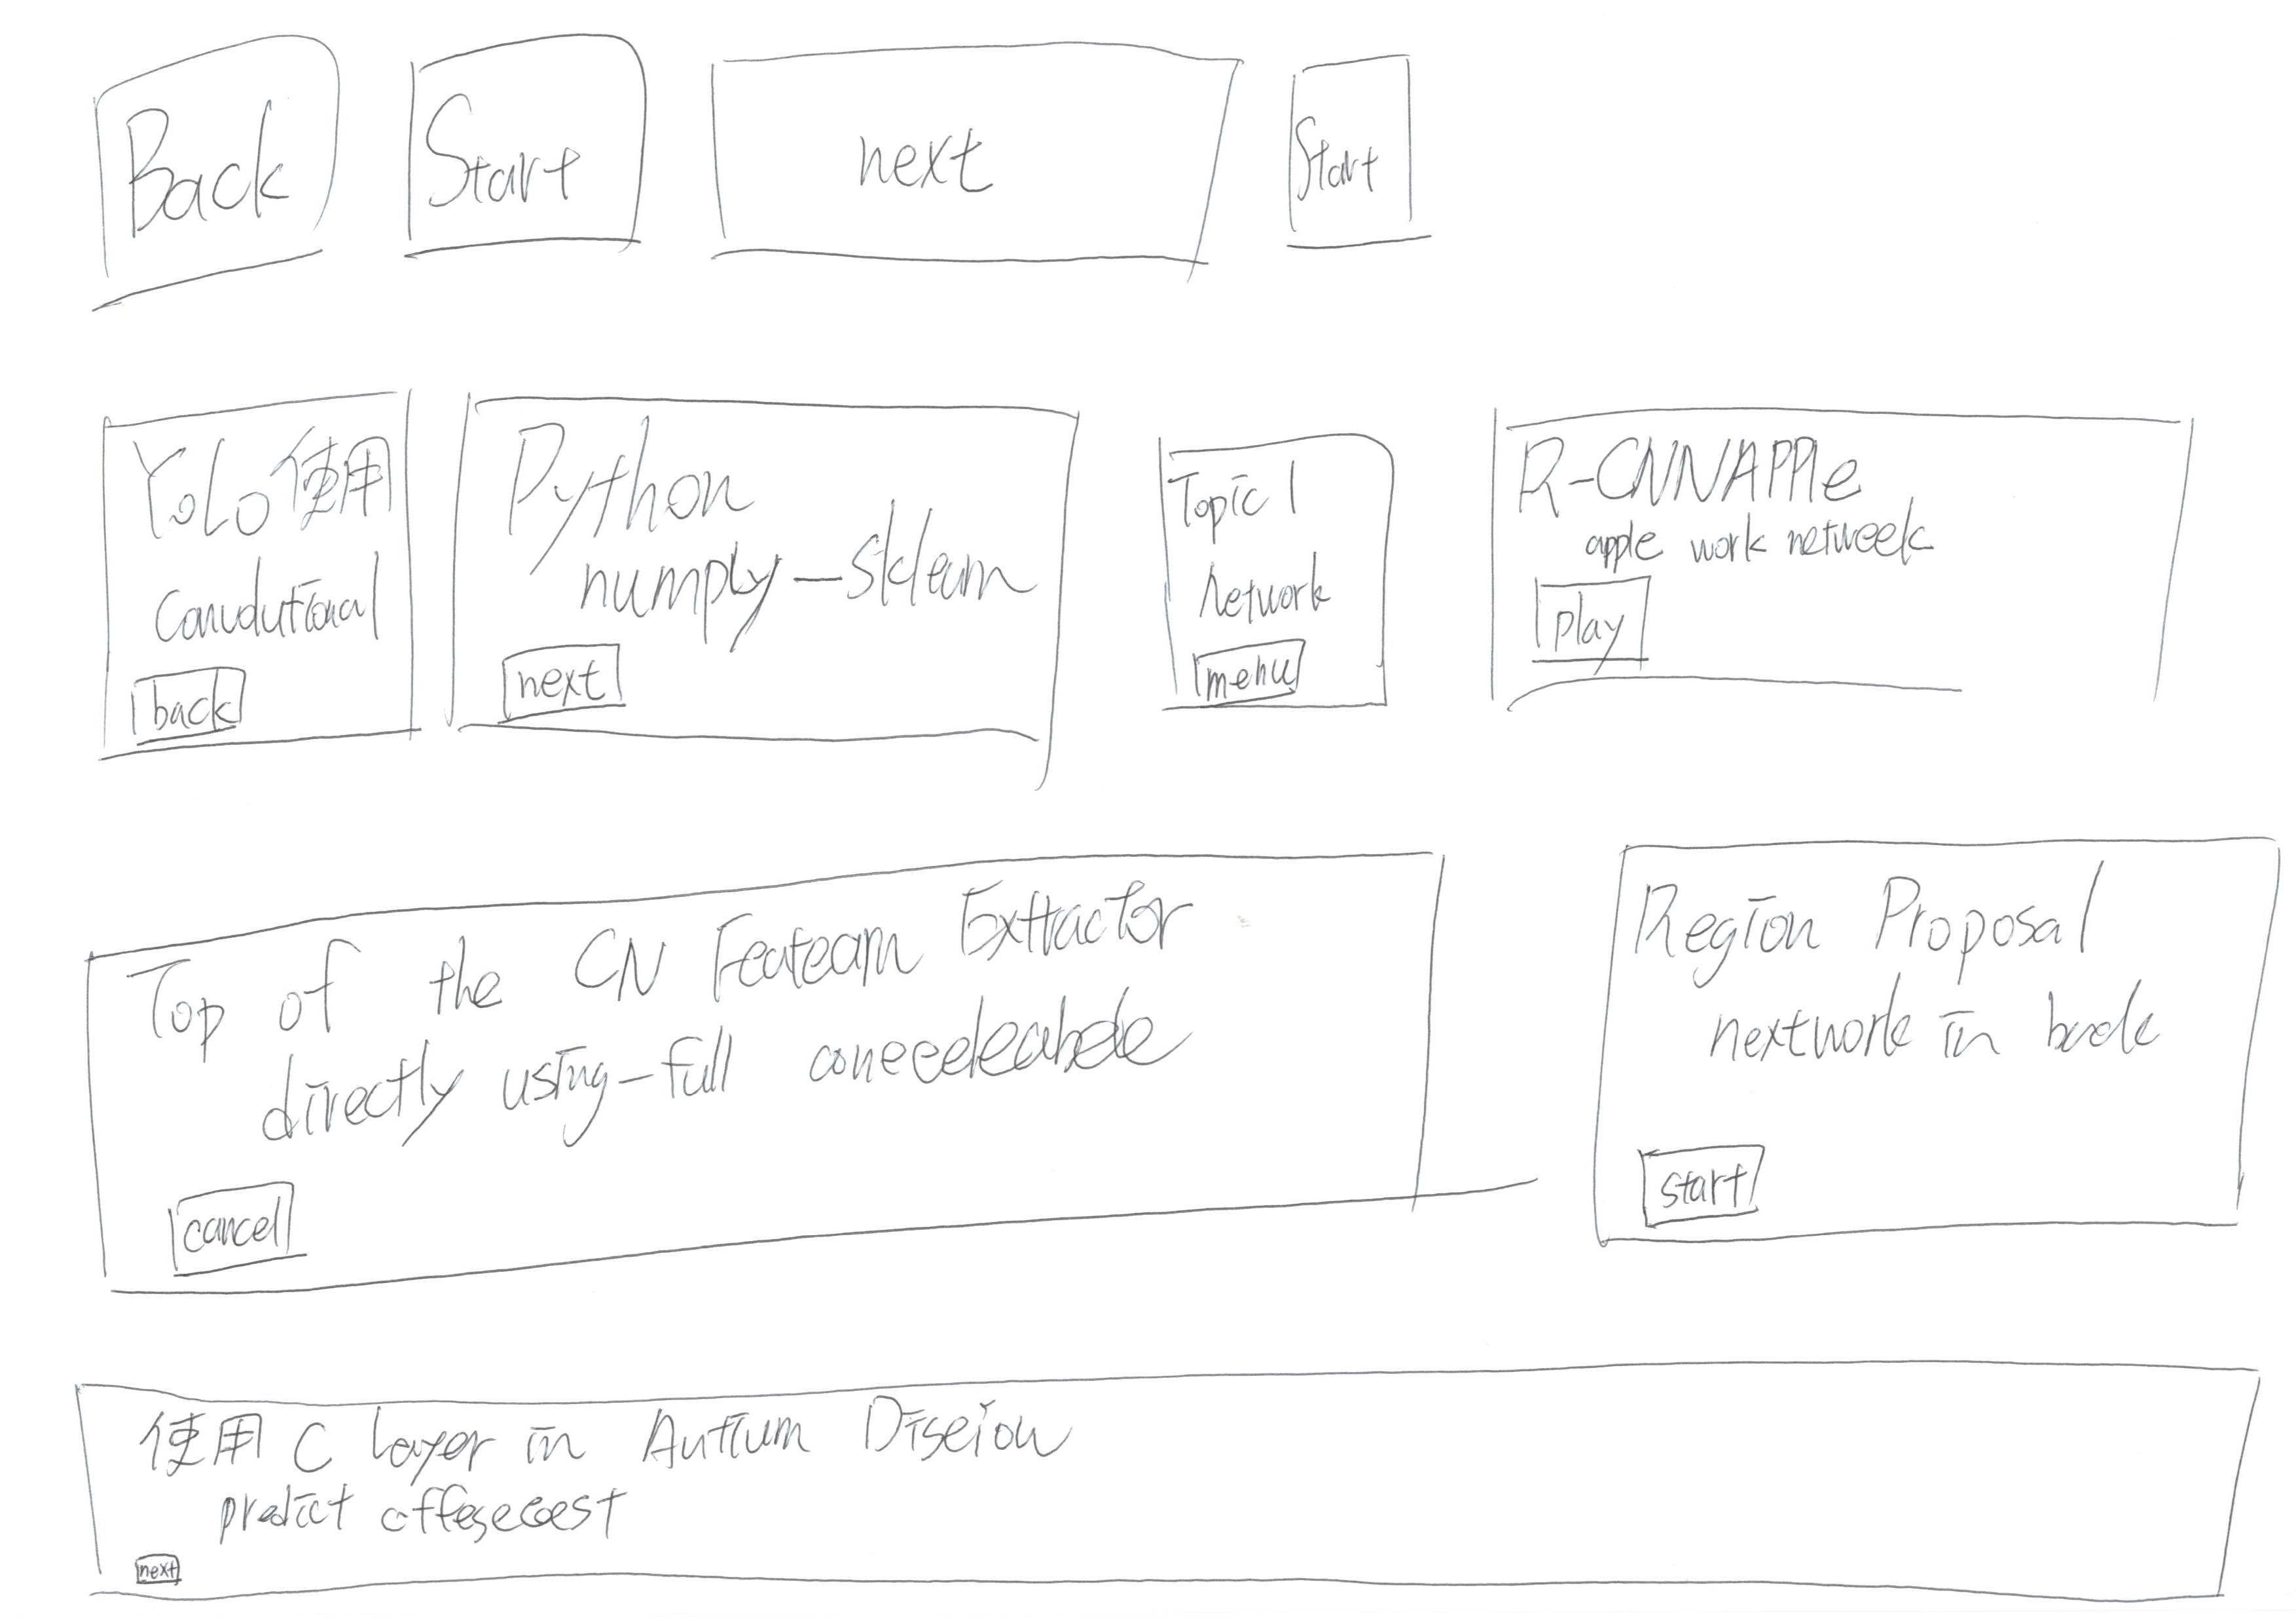back: (69, 32, 381, 309), (107, 657, 260, 752)
cancel: (146, 1165, 339, 1295)
double: (28, 826, 1496, 1288), (1559, 817, 2296, 1301)
menu: (1169, 636, 1327, 729)
next: (691, 14, 1252, 316), (492, 631, 658, 742), (111, 1540, 188, 1598)
play: (1514, 564, 1681, 689)
quadruple: (1450, 362, 2296, 780), (431, 369, 1129, 796), (72, 367, 447, 787), (1129, 385, 1429, 796)
row: (28, 803, 2296, 1308), (28, 329, 2296, 803), (28, 19, 2296, 329), (35, 1318, 2296, 1624)
single: (46, 1329, 2296, 1612)
small-title: (105, 861, 1208, 1032), (146, 1390, 1086, 1473), (1633, 856, 2118, 972), (1519, 427, 1849, 520), (130, 424, 387, 538), (510, 424, 747, 534), (1185, 462, 1306, 548)
start: (378, 23, 670, 302), (1259, 47, 1461, 285), (1616, 1125, 1786, 1246)
text: (244, 986, 1197, 1153), (571, 527, 1037, 619), (1707, 990, 2201, 1076), (211, 1464, 624, 1562), (162, 547, 374, 645), (1589, 518, 1932, 578), (1195, 571, 1354, 638)
